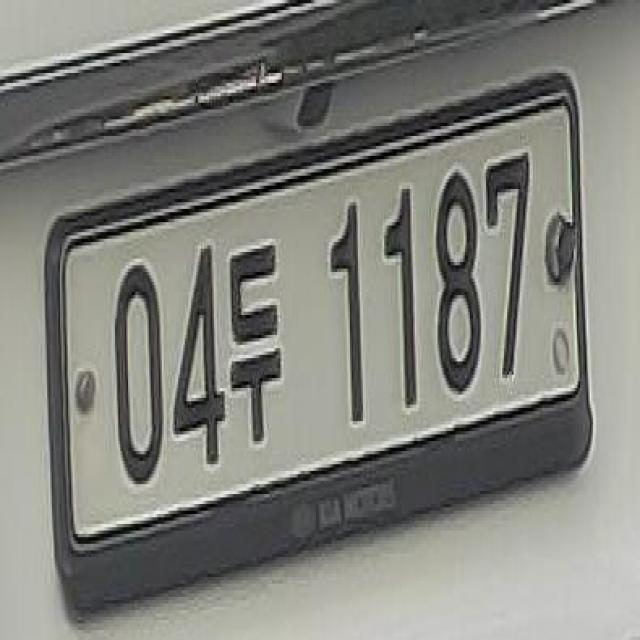illegal_plate: (50, 75, 600, 592)
